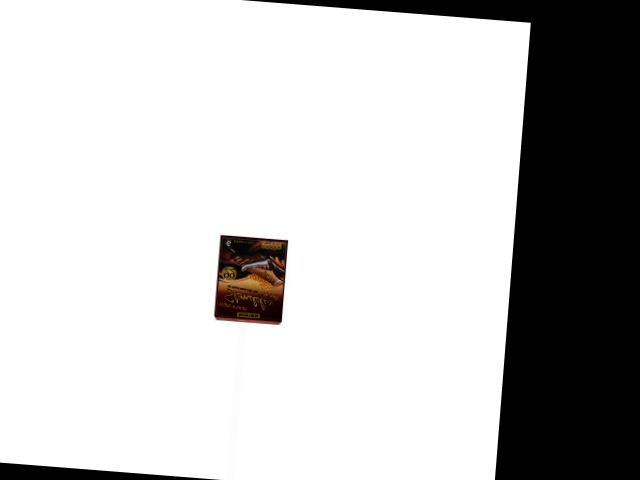chocolate: (213, 234, 287, 325)
